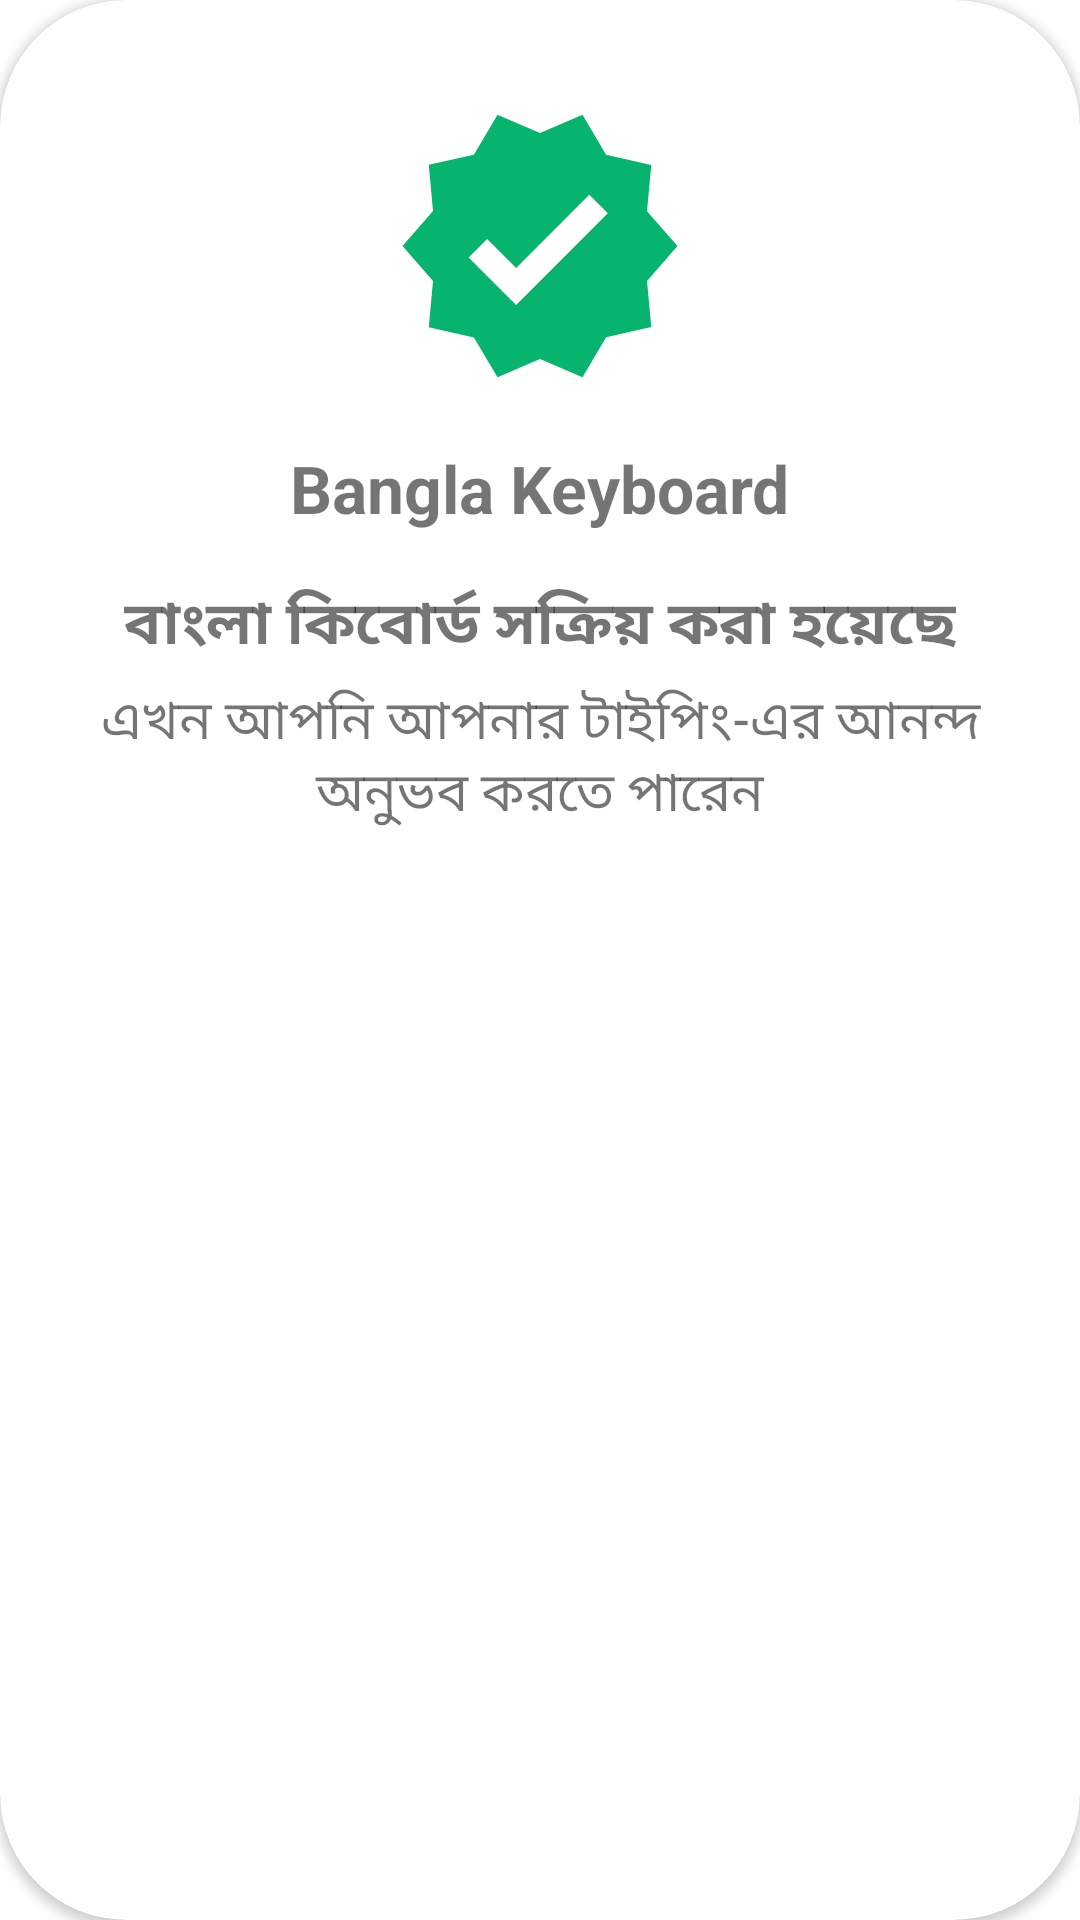

Screen size 1080px×1920px. Icon name, then its box in pixels as (x1, y1, x2, y2):
verified: (402, 115, 678, 378)
